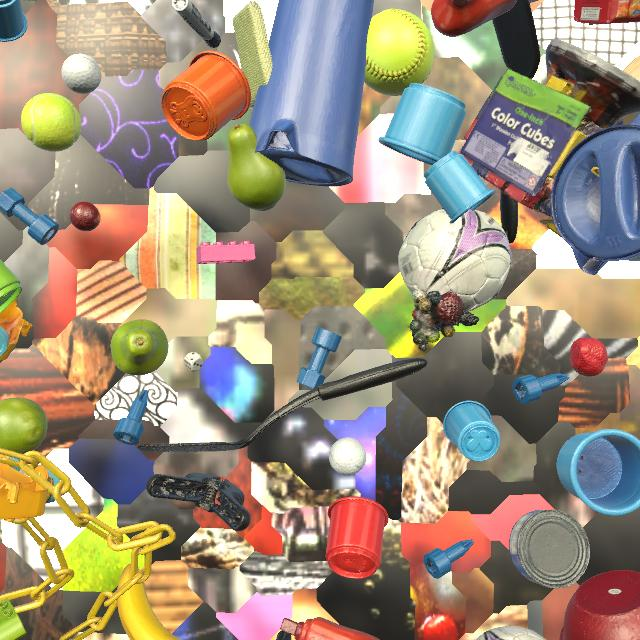ycb_003_cracker_box: (573, 0, 640, 25)
ycb_007_tuna_fish_can: (509, 509, 590, 588)
ycb_011_banana: (117, 564, 181, 640)
ycb_012_strawberry: (570, 338, 608, 377)
ycb_016_pear: (227, 124, 286, 211), (111, 319, 168, 376), (0, 397, 48, 454)
